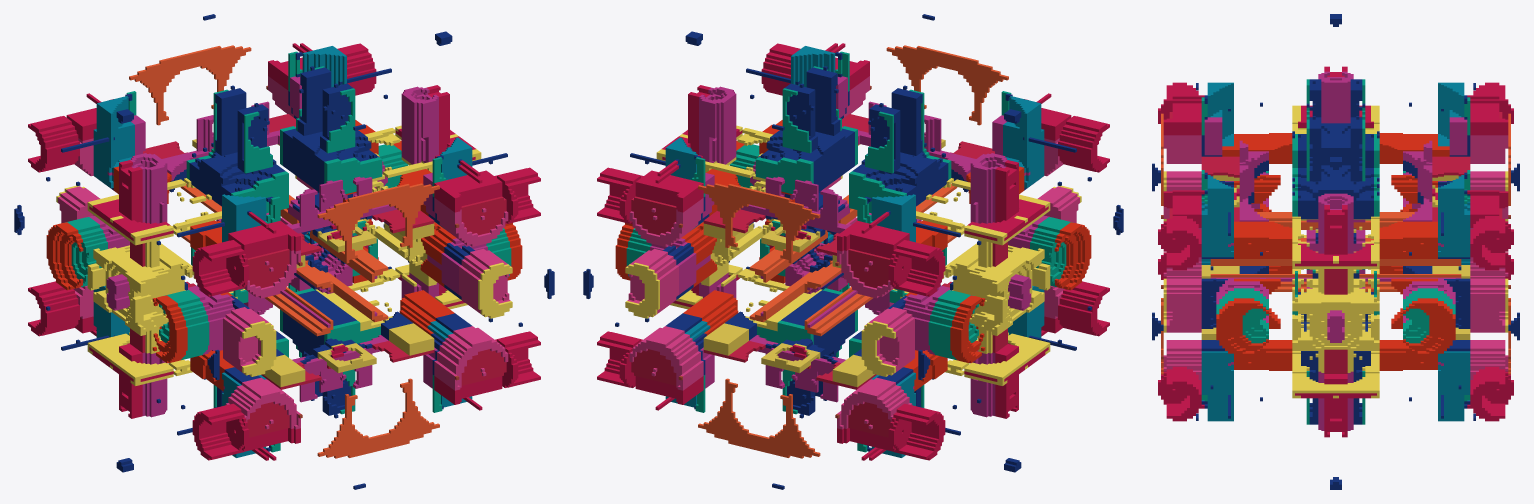
The model's file is thing2.obj.
The picture shows the model from 3 angles, left to right: view 1: azimuth 30°, elevation 25°; view 2: azimuth 150°, elevation 25°; view 3: azimuth 270°, elevation 25°; orthographic projection. The views are drawn at different scales.
Size of the model in its own units: 12.6 by 12.6 by 12.6.
1 material, 1 textured.
